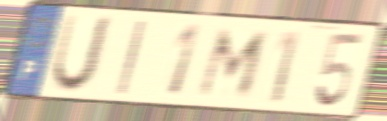1: (164, 21, 203, 100), (272, 29, 304, 106)
5: (313, 32, 365, 109)
I: (114, 18, 149, 98)
M: (195, 27, 273, 99)
U: (47, 12, 116, 97)
